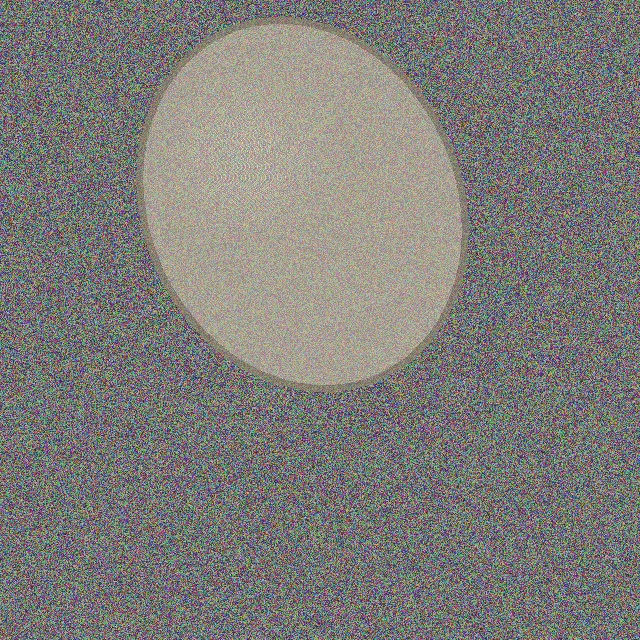lens: (139, 21, 465, 387)
